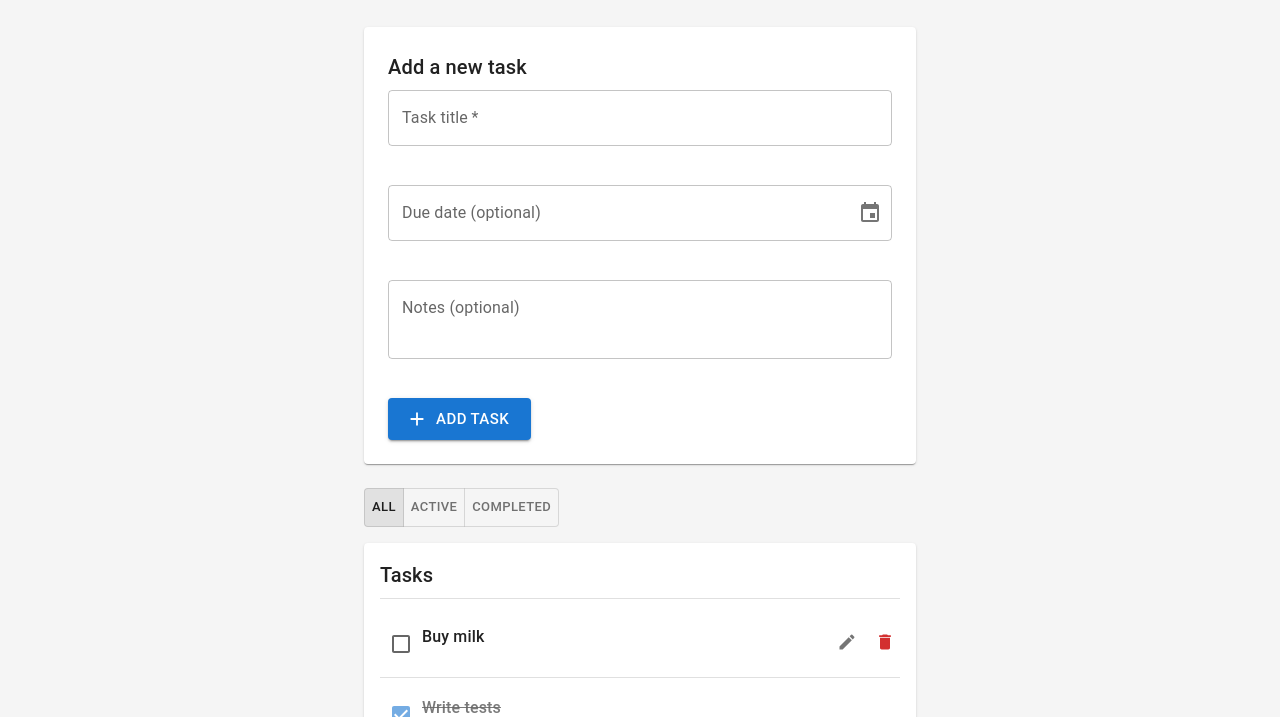
Test case: App › adds a new task
Step 1. Type "New task" into the field labelled "Task title *" → (640, 118), box [388,90,892,146]
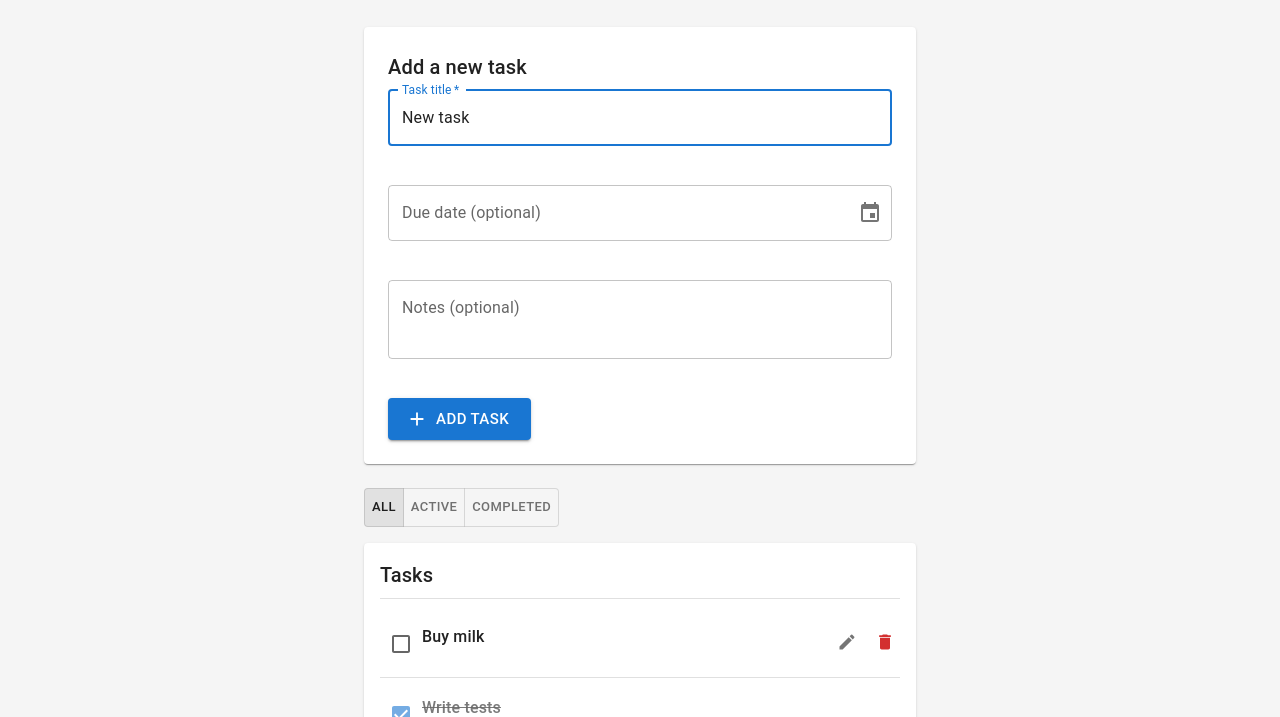
Step 2. Click the button "Add task" → (460, 419), box [388,398,531,440]
(page scrolled)
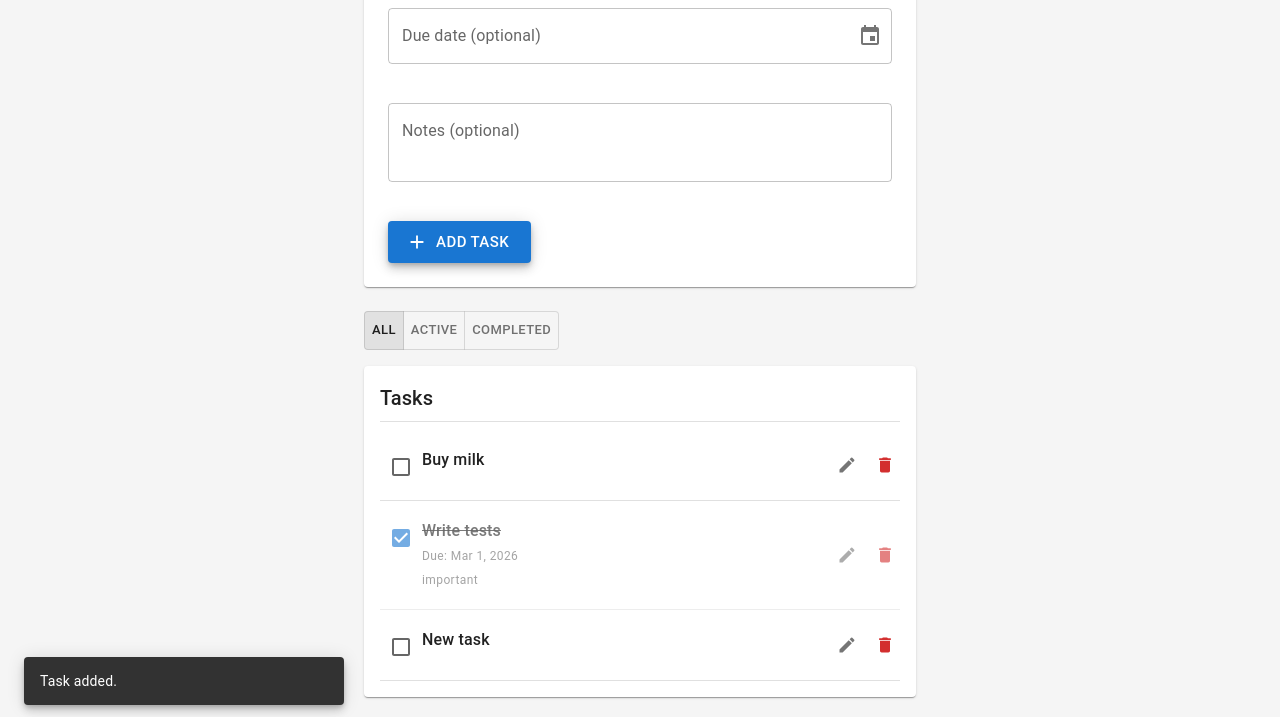
expect the text "New task" is shown: met, box [422,630,490,648]
